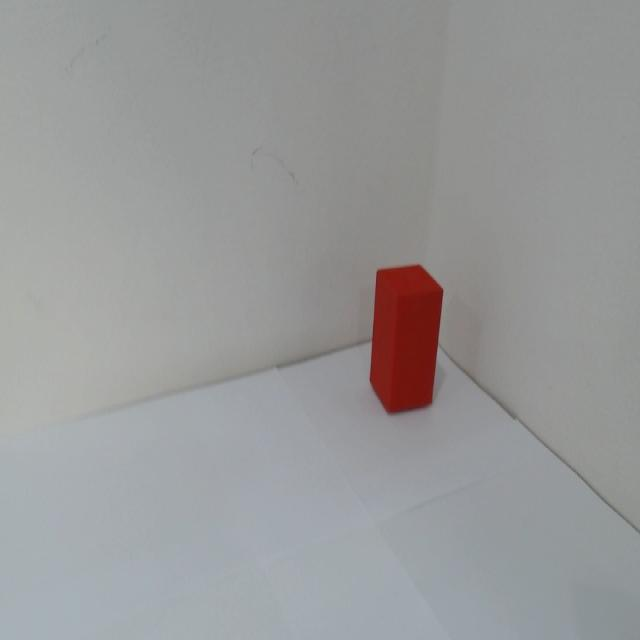cube: (368, 244, 444, 434)
